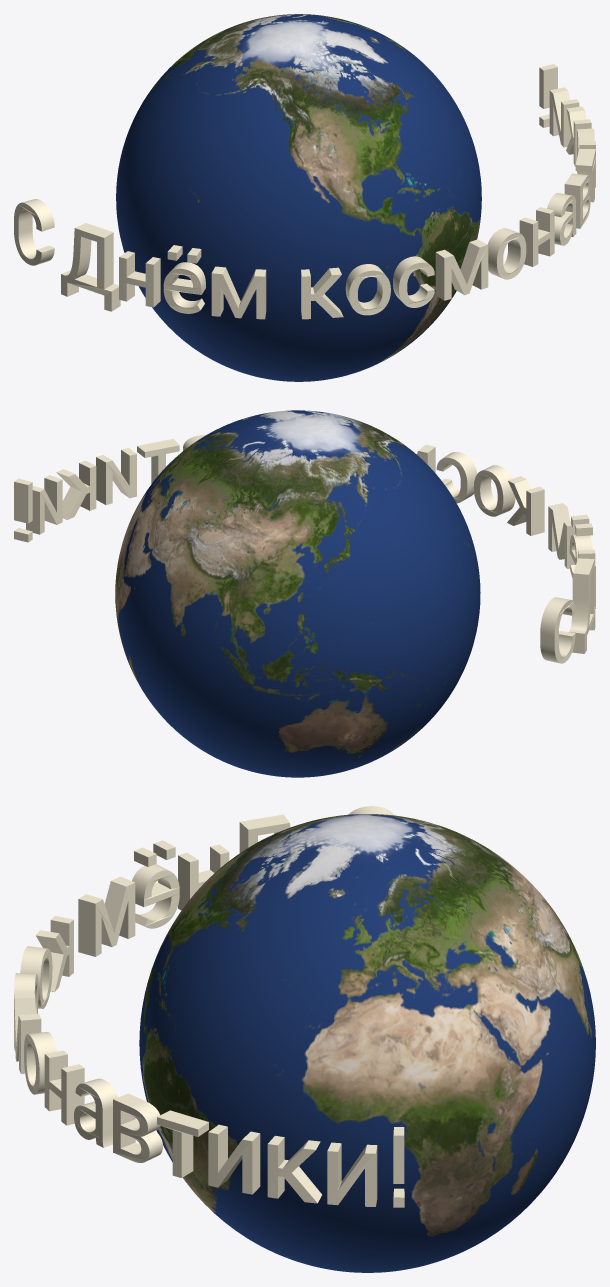
Rendered from Cosmo.gltf.
3 renders of one model, top to bottom at view 1: azimuth 30°, elevation 25°; view 2: azimuth 150°, elevation 25°; view 3: azimuth 270°, elevation 25°, orthographic. The views are drawn at different scales.
Visible parts, largest first — view 1: Earth, Text; view 2: Earth, Text; view 3: Earth, Text.
Part boxes in pixels (x1=…): Earth: x1=116, y1=14, x2=481, y2=381; Text: x1=14, y1=64, x2=595, y2=319; Earth: x1=115, y1=410, x2=480, y2=777; Text: x1=14, y1=434, x2=595, y2=663; Earth: x1=139, y1=814, x2=595, y2=1272; Text: x1=14, y1=806, x2=404, y2=1207.
Size of the model in its own units: 1.32 by 0.7803 by 0.9843.
2 materials, 2 textured.
